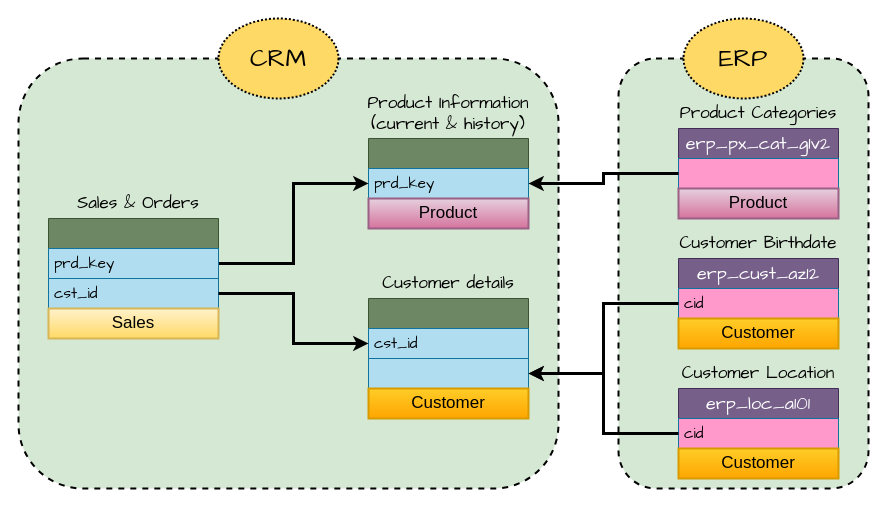
The diagram is 886 pixels wide and 506 high, and some of its shapes have lost their labels. Each missing label, with the box of its shape:
crm_cust_info: (368, 298, 528, 388)
crm_prd_info: (368, 138, 528, 198)
crm_sales_details: (48, 218, 218, 308)
cst_key: (368, 358, 528, 388)
id: (678, 158, 838, 188)
